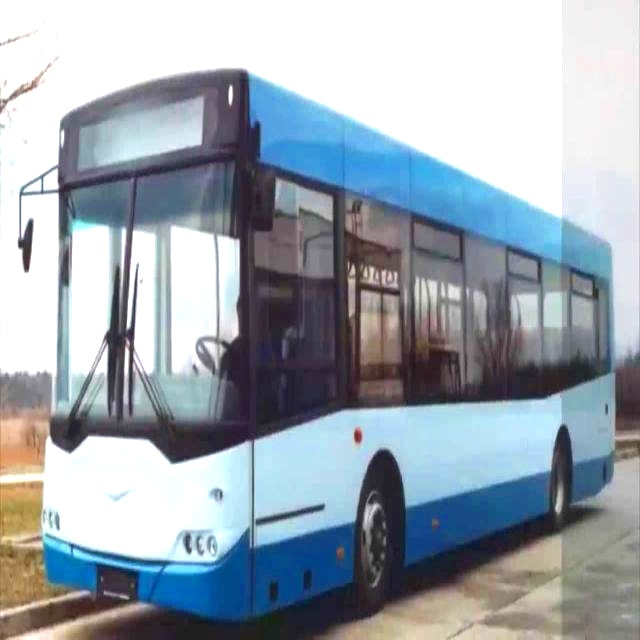bus: (6, 60, 630, 636)
